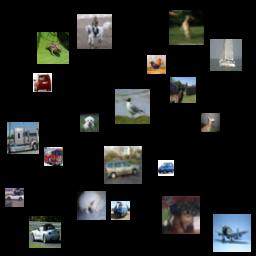airplane: (213, 214, 251, 252)
automobile: (104, 146, 142, 184), (29, 216, 61, 248), (33, 73, 52, 92), (5, 188, 24, 207), (158, 160, 174, 176)
bird: (115, 89, 150, 124), (147, 55, 166, 74)
cat: (162, 196, 200, 234)
deer: (169, 10, 204, 45), (170, 77, 196, 103), (201, 113, 220, 132)
dog: (77, 191, 106, 220), (80, 113, 99, 132)
frog: (37, 32, 69, 64)
ship: (210, 39, 242, 71)
truck: (7, 122, 39, 154), (44, 147, 63, 166), (111, 201, 130, 220)
